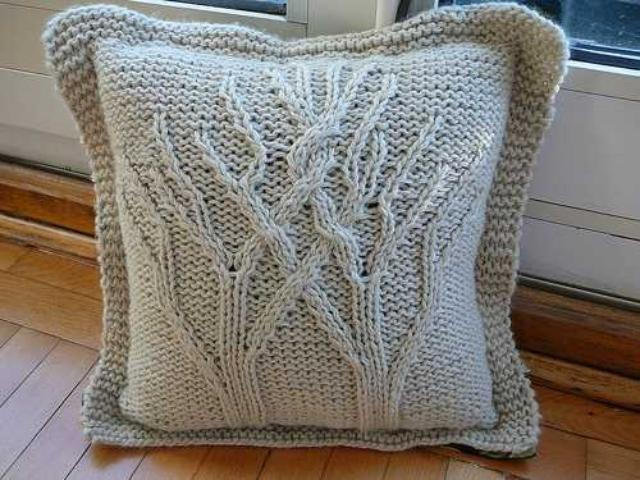pillow: (42, 1, 570, 455)
